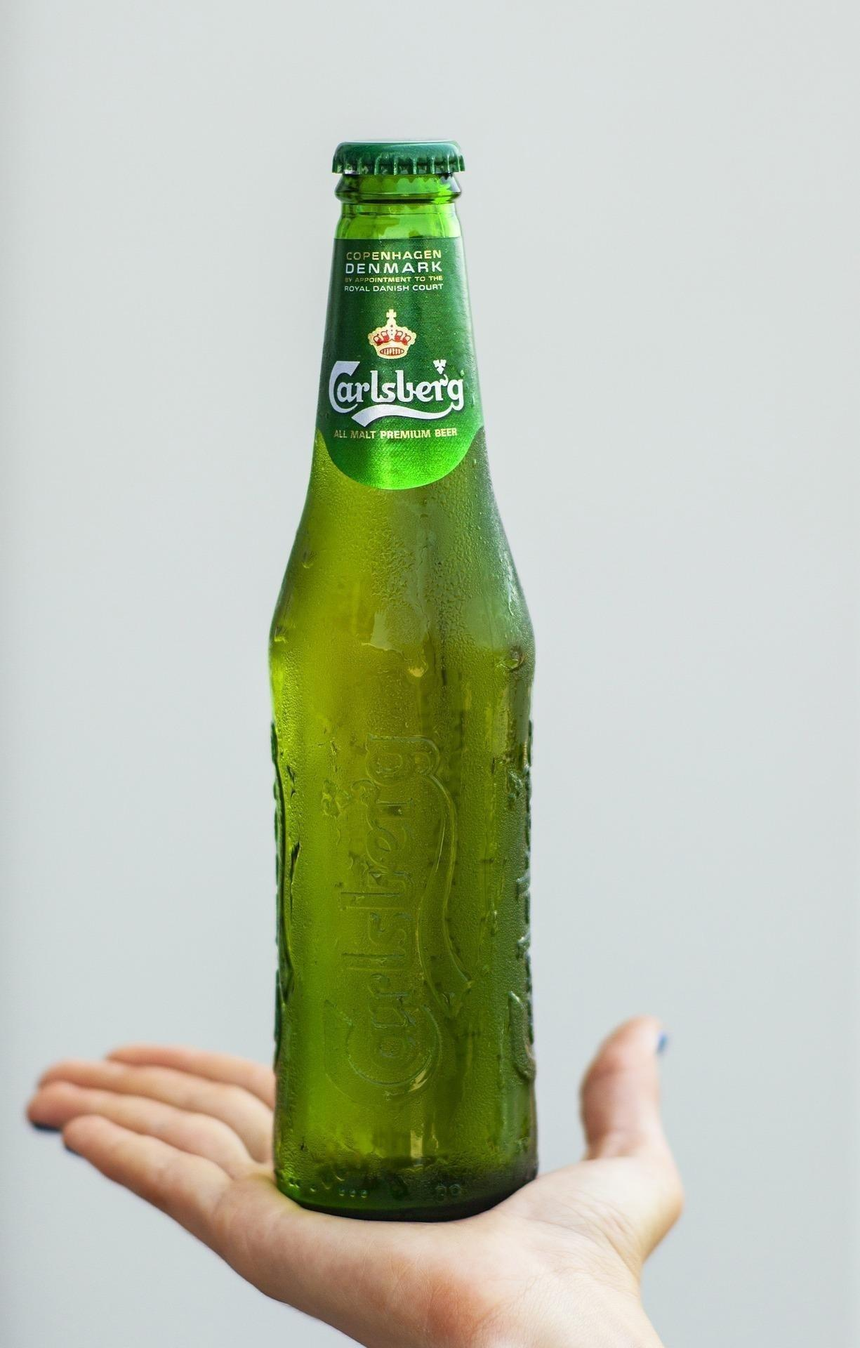bottle-glass: (267, 137, 542, 1223)
